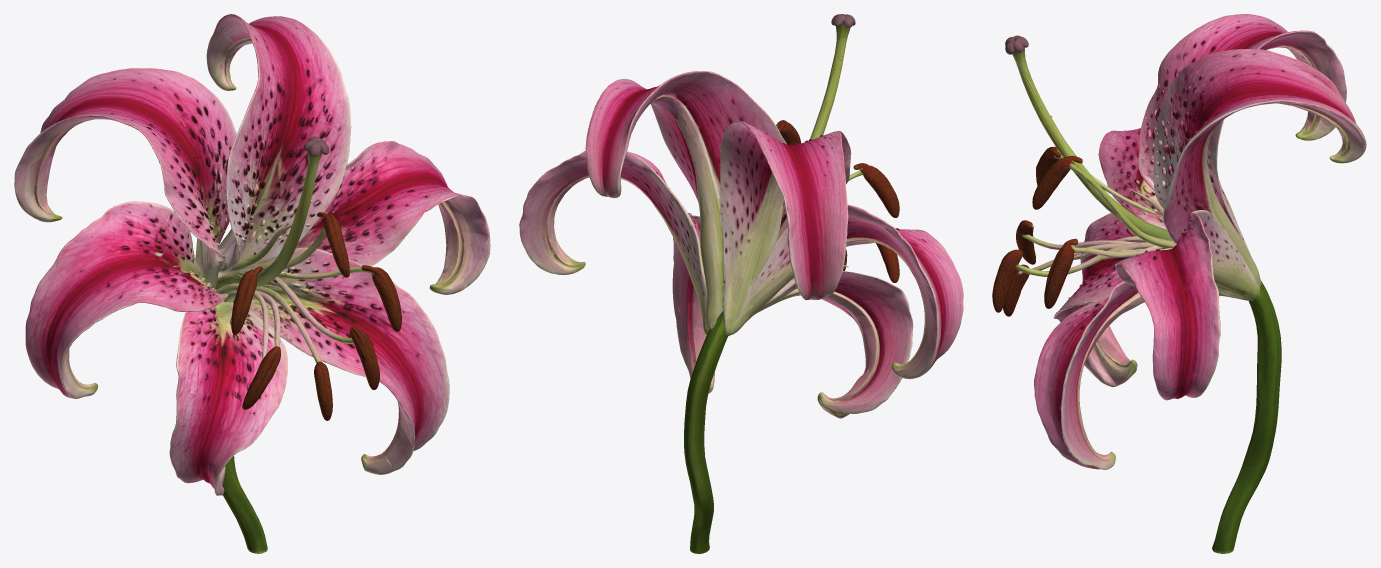
Rendered from pink-tiger-lily.glb.
The picture shows the model from 3 angles, left to right: view 1: azimuth 30°, elevation 25°; view 2: azimuth 150°, elevation 25°; view 3: azimuth 270°, elevation 25°; orthographic projection. The views are drawn at different scales.
Visible parts, largest first — view 1: output_unwrapped; view 2: output_unwrapped; view 3: output_unwrapped.
Boxes of the visible parts, x1,y1,x2,y2 form: output_unwrapped: [14, 14, 490, 553]; output_unwrapped: [519, 14, 963, 553]; output_unwrapped: [992, 14, 1366, 553].
Bounding box in the file's own units: 1.71 × 1.9 × 1.28.
1 material, 1 textured.
